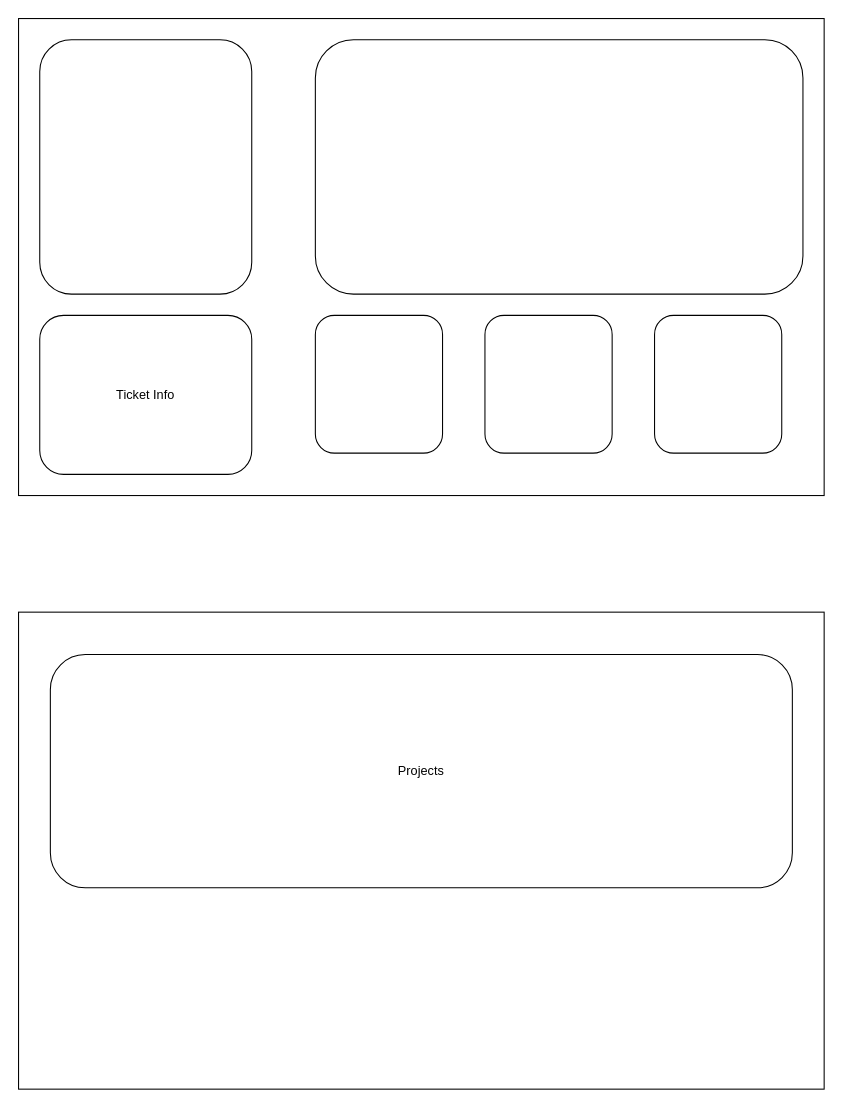
Some shapes in this 843 by 1108 pixel diagram are drawn without their labels. The shapes that lost their labels are listed below. From the top down, each one's box as (x1, y1, x2, y2) in pixels, then its label:
(39, 39, 252, 294): Assigned Employee
(314, 39, 803, 294): Ticket Table
